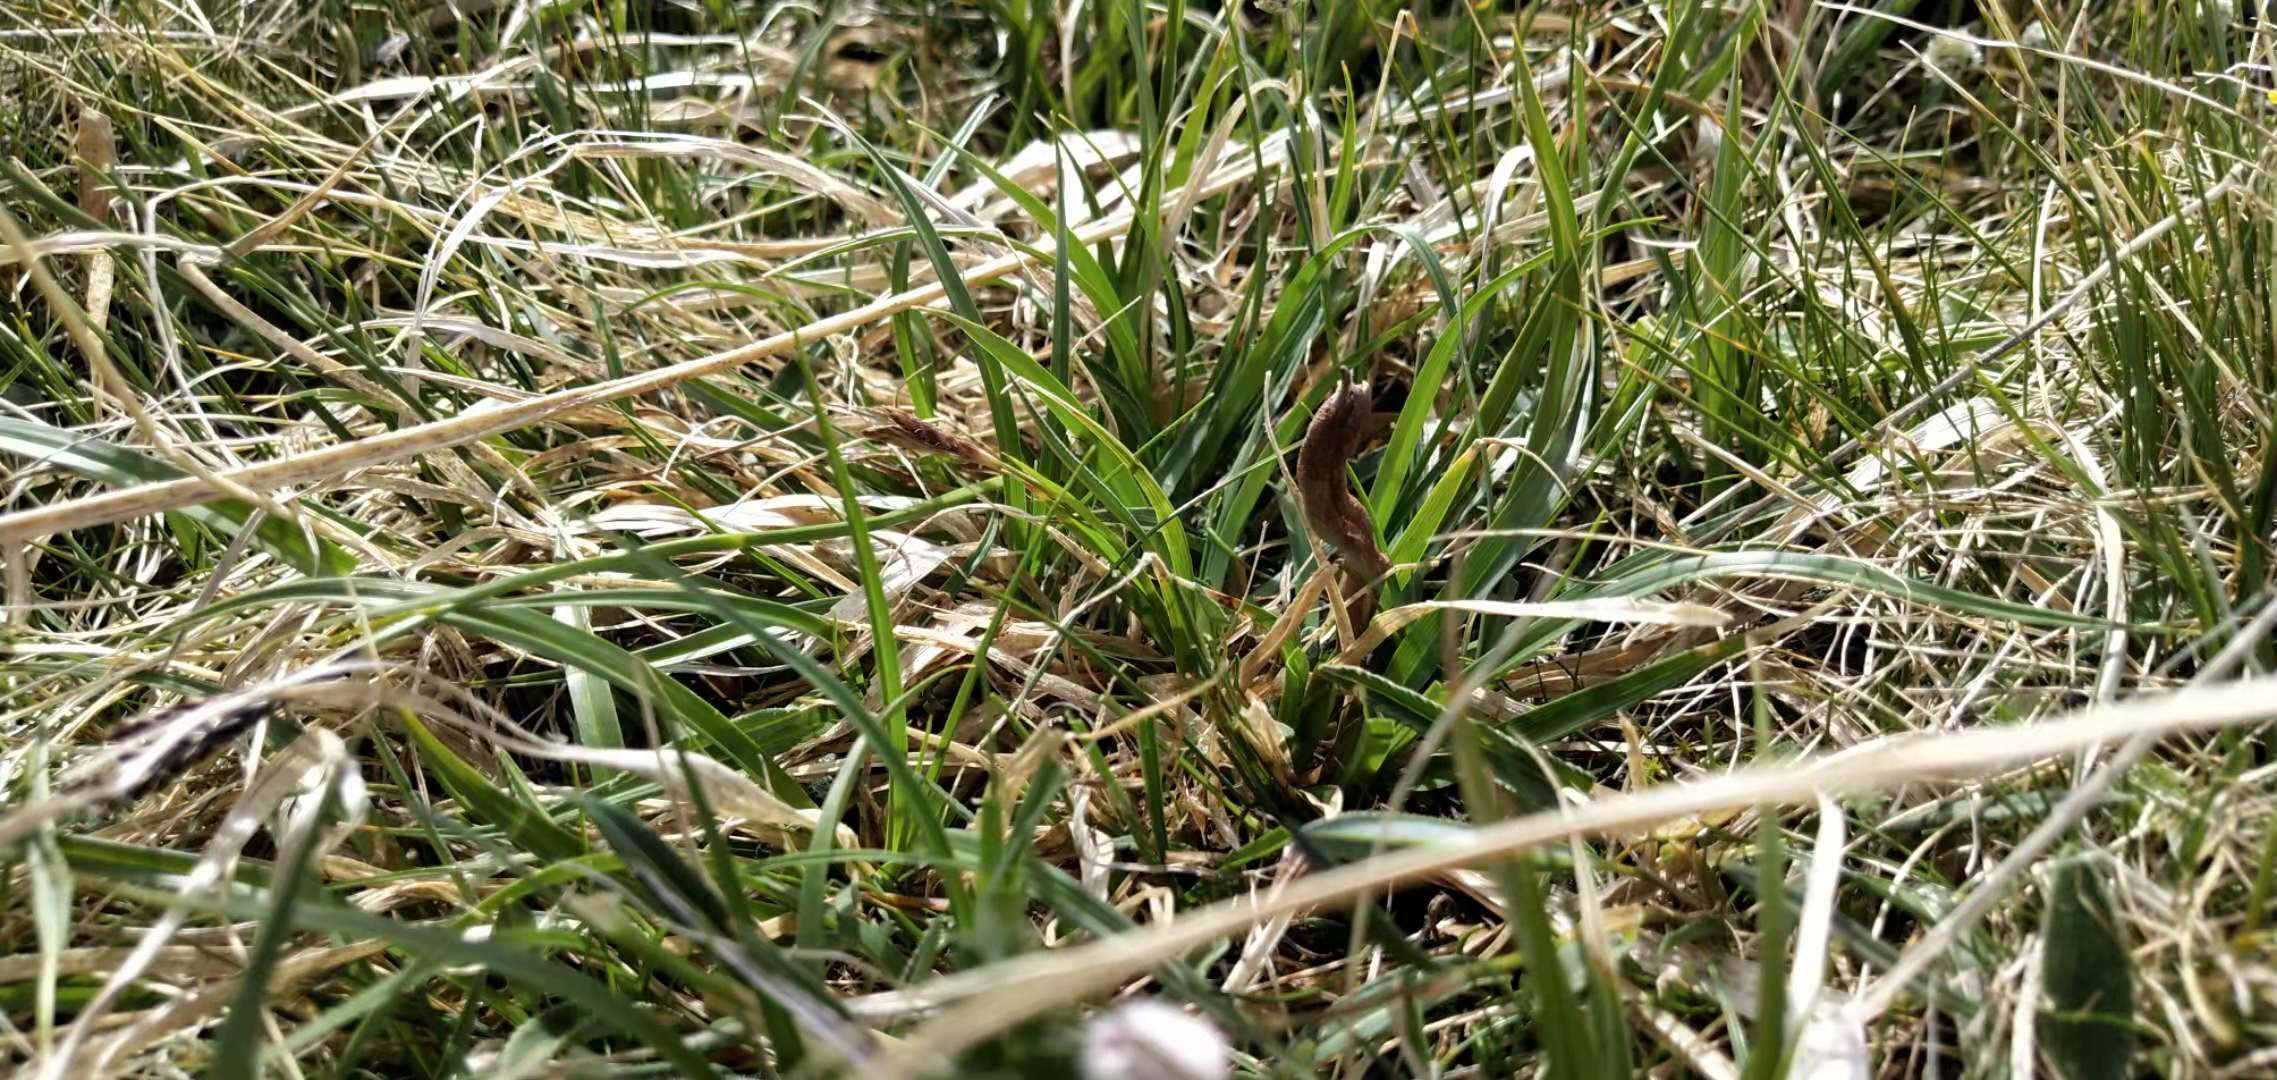cpf: (1292, 389, 1387, 602)
